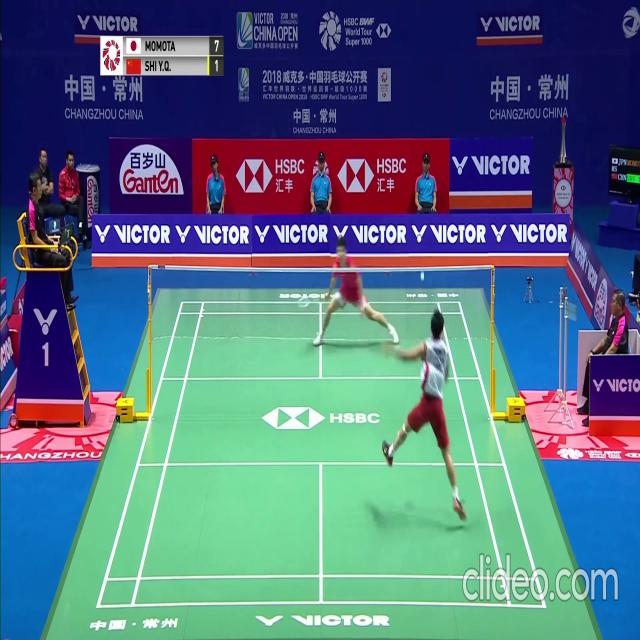Shuttlecock: (420, 272, 425, 280)
